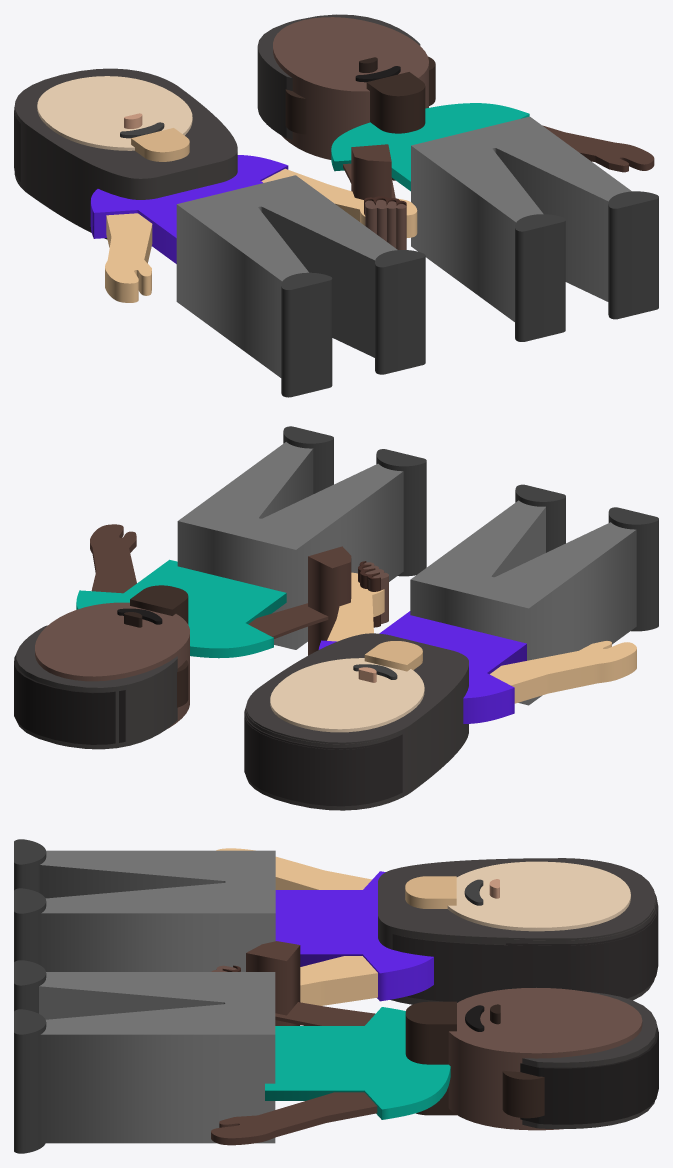
The model's file is emoji_u1f469_1f3fb_200d_1f91d_200d_1f468_1f3ff.glb.
The picture shows the model from 3 angles, top to bottom: view 1: azimuth 30°, elevation 25°; view 2: azimuth 150°, elevation 25°; view 3: azimuth 270°, elevation 25°; orthographic projection. The views are drawn at different scales.
Parts seen in each view (by area): view 1: emoji_u1f469_1f3fb_200d_1f91d_200d_1f468_1f3ff; view 2: emoji_u1f469_1f3fb_200d_1f91d_200d_1f468_1f3ff; view 3: emoji_u1f469_1f3fb_200d_1f91d_200d_1f468_1f3ff.
Boxes of the visible parts, bbox=[...] form: emoji_u1f469_1f3fb_200d_1f91d_200d_1f468_1f3ff: bbox=[14, 14, 658, 397]; emoji_u1f469_1f3fb_200d_1f91d_200d_1f468_1f3ff: bbox=[14, 426, 658, 810]; emoji_u1f469_1f3fb_200d_1f91d_200d_1f468_1f3ff: bbox=[14, 839, 658, 1153].
Size of the model in its own units: 0.0346 by 0.0068 by 0.0334.
